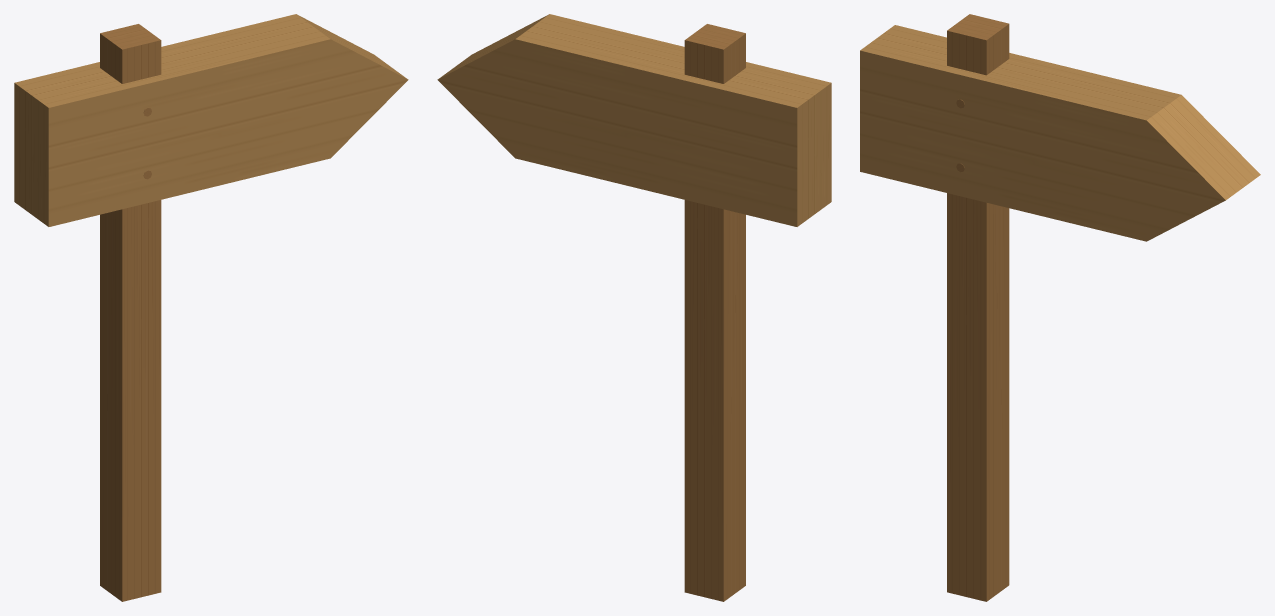
File: signpost.glb
3 views of the same model, side by side, from view 1: azimuth 30°, elevation 25°; view 2: azimuth 150°, elevation 25°; view 3: azimuth 330°, elevation 25° (orthographic).
Visible parts, largest first — view 1: signpost; view 2: signpost; view 3: signpost.
Boxes of the visible parts, <box> form: signpost: <box>14,14,408,601</box>; signpost: <box>437,14,831,601</box>; signpost: <box>860,14,1260,601</box>.
Bounding box in the file's own units: 1.2 × 1.76 × 0.2.
Materials: 2 (2 with a texture image).
